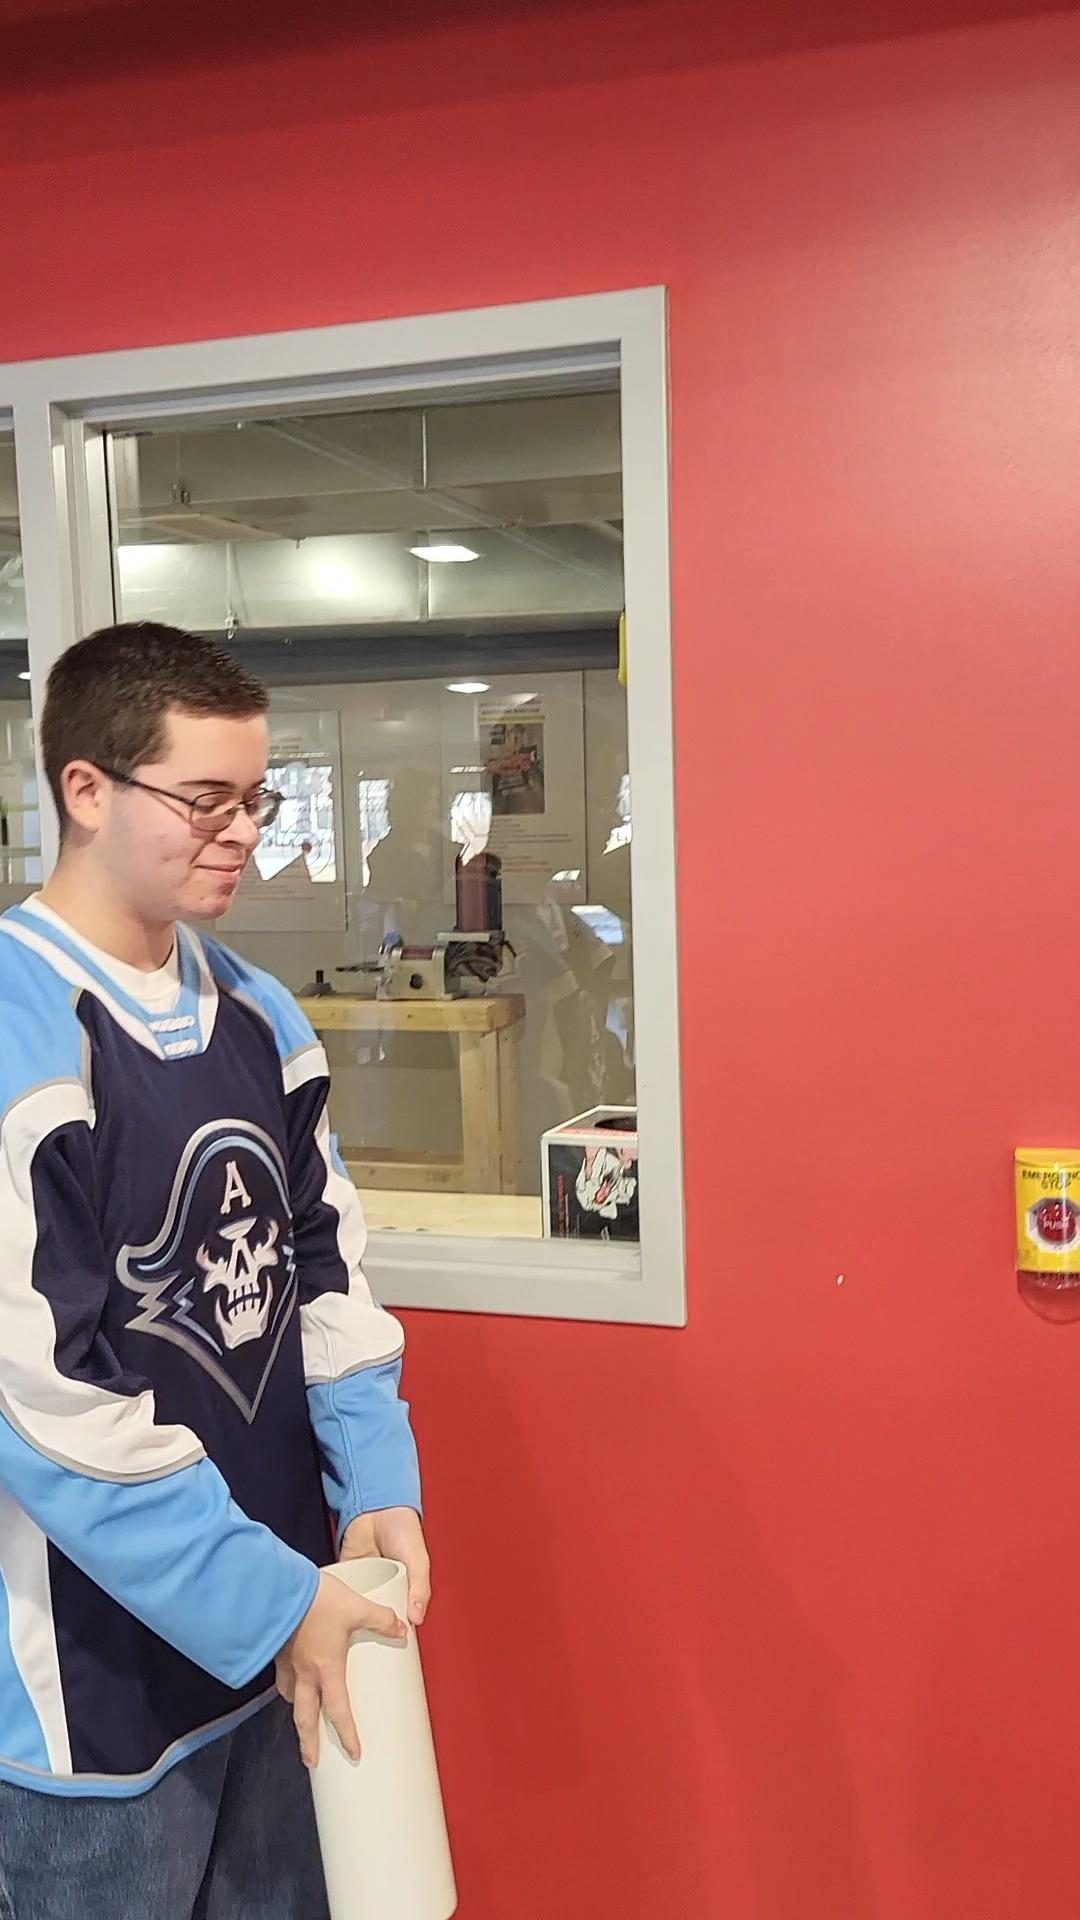coral: (280, 1543, 460, 1920)
